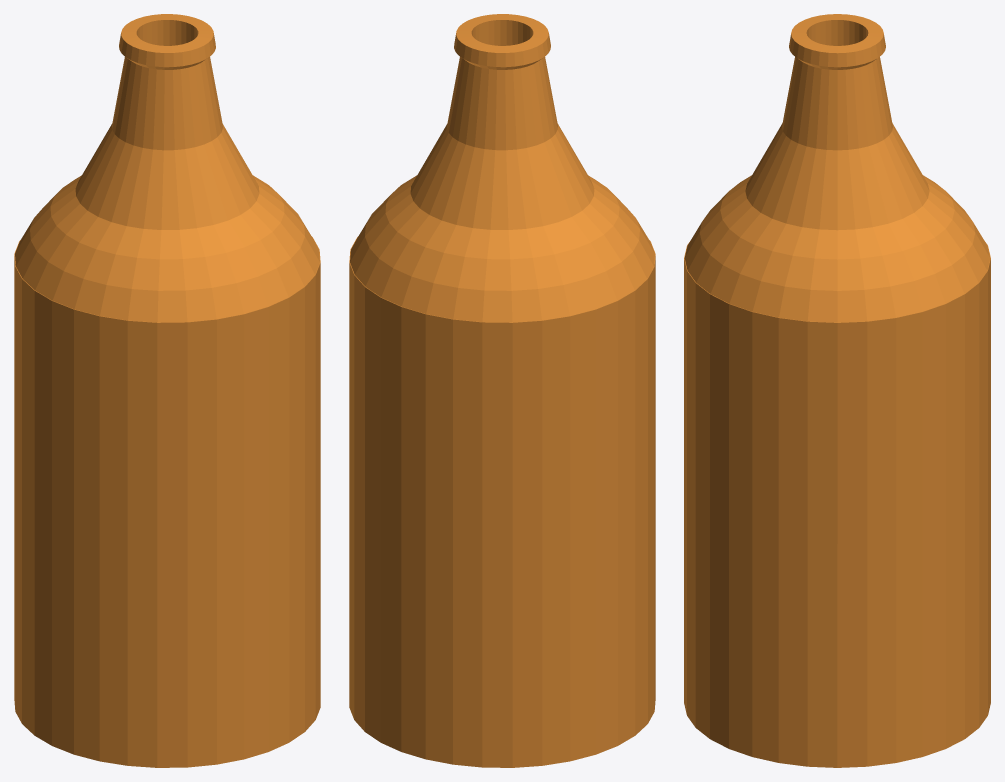
Rendered from REDBOTTLE.fbx.
The picture shows the model from 3 angles, left to right: view 1: azimuth 30°, elevation 25°; view 2: azimuth 150°, elevation 25°; view 3: azimuth 270°, elevation 25°; orthographic projection.
Parts seen in each view (by area): view 1: Cylinder, Sphere; view 2: Cylinder, Sphere; view 3: Cylinder, Sphere.
Boxes of the visible parts, left/top/right/bottom form: Cylinder: left=14, top=237, right=320, bottom=767; Sphere: left=15, top=14, right=319, bottom=322; Cylinder: left=349, top=237, right=655, bottom=767; Sphere: left=350, top=14, right=654, bottom=322; Cylinder: left=684, top=242, right=990, bottom=767; Sphere: left=684, top=14, right=990, bottom=322.
Bounding box in the file's own units: 45.22 × 109 × 45.22.
